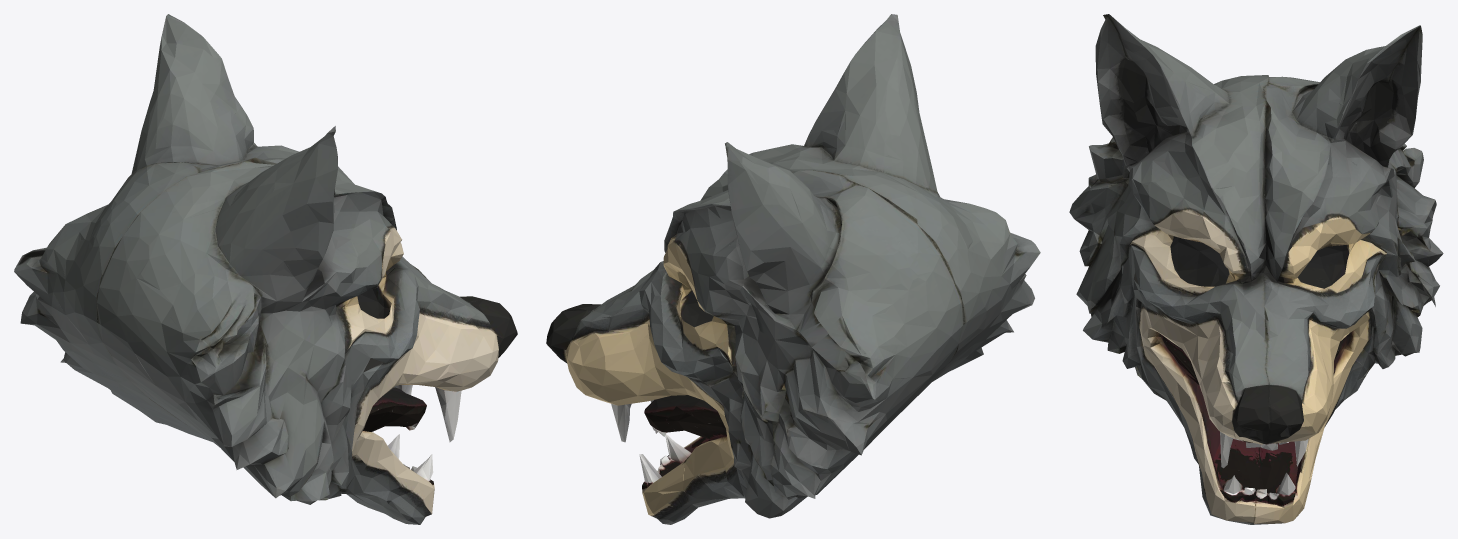
The model's file is wolf.glb.
3 views of the same model, side by side, from view 1: azimuth 30°, elevation 25°; view 2: azimuth 150°, elevation 25°; view 3: azimuth 270°, elevation 25° (orthographic). The views are drawn at different scales.
Parts seen in each view (by area): view 1: tripo_node_708999e7-6575-41d2-88a2-c485a594300f; view 2: tripo_node_708999e7-6575-41d2-88a2-c485a594300f; view 3: tripo_node_708999e7-6575-41d2-88a2-c485a594300f.
Part boxes in pixels (box(x1,y1,x2,y2)): tripo_node_708999e7-6575-41d2-88a2-c485a594300f: box(14, 14, 517, 524); tripo_node_708999e7-6575-41d2-88a2-c485a594300f: box(546, 14, 1040, 524); tripo_node_708999e7-6575-41d2-88a2-c485a594300f: box(1069, 14, 1443, 524).
Size of the model in its own units: 0.9006 by 1 by 0.7603.
1 material, 1 textured.
